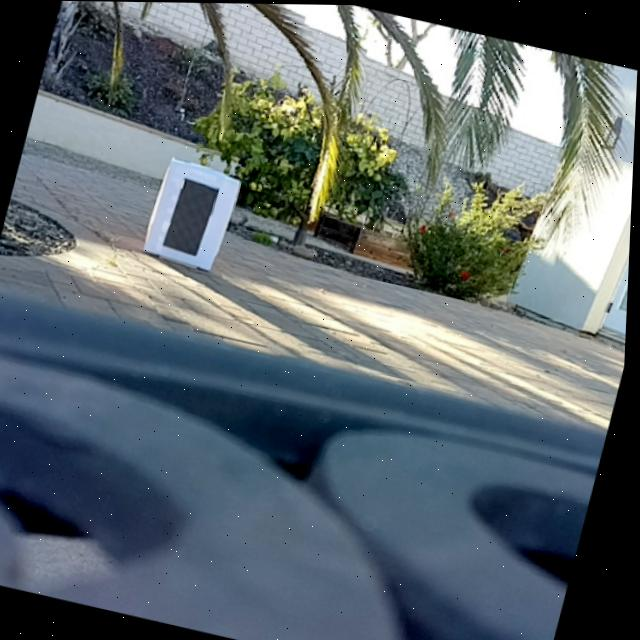led: (165, 177, 220, 256)
